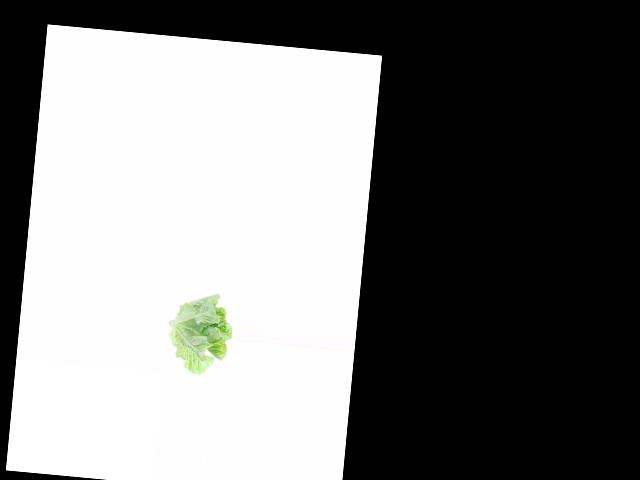lettuce: (167, 288, 235, 376)
